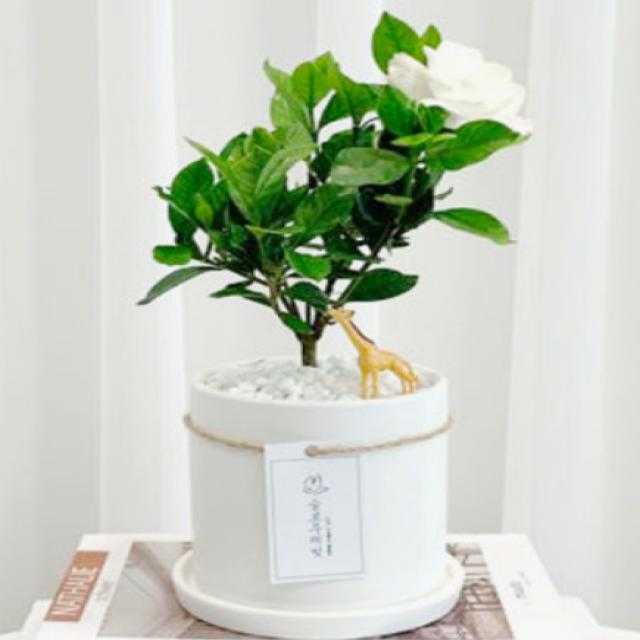Plant Pot: (172, 330, 492, 634)
